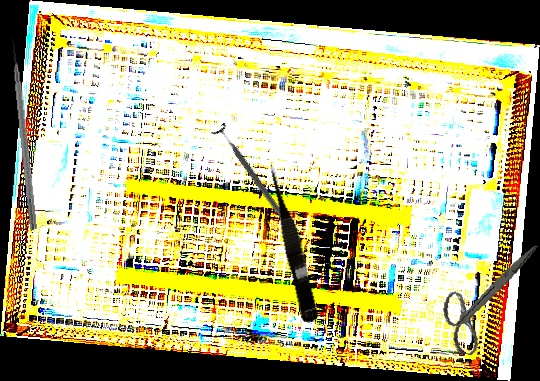Fixation Ring: (209, 122, 298, 233)
Hook Surgical: (9, 37, 40, 230)
Iris Scissors: (436, 231, 539, 364)
Micro Scissor: (263, 160, 324, 325)
